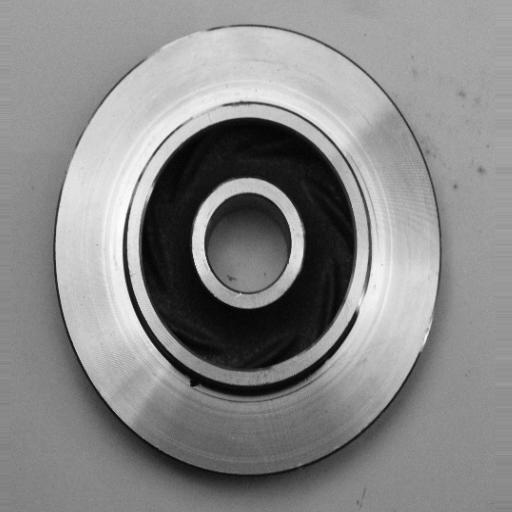crack: (174, 364, 217, 401)
scratch: (173, 96, 255, 131), (349, 267, 374, 337)
unpolished_casting: (54, 24, 444, 480)
